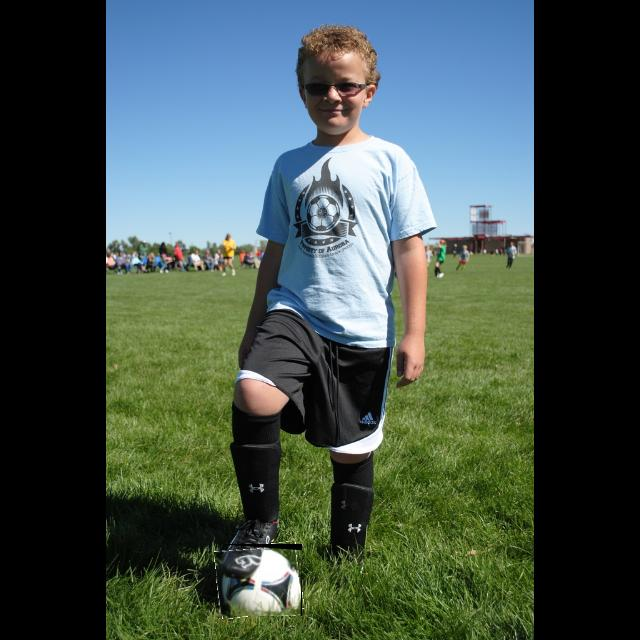Football: (216, 544, 302, 616)
